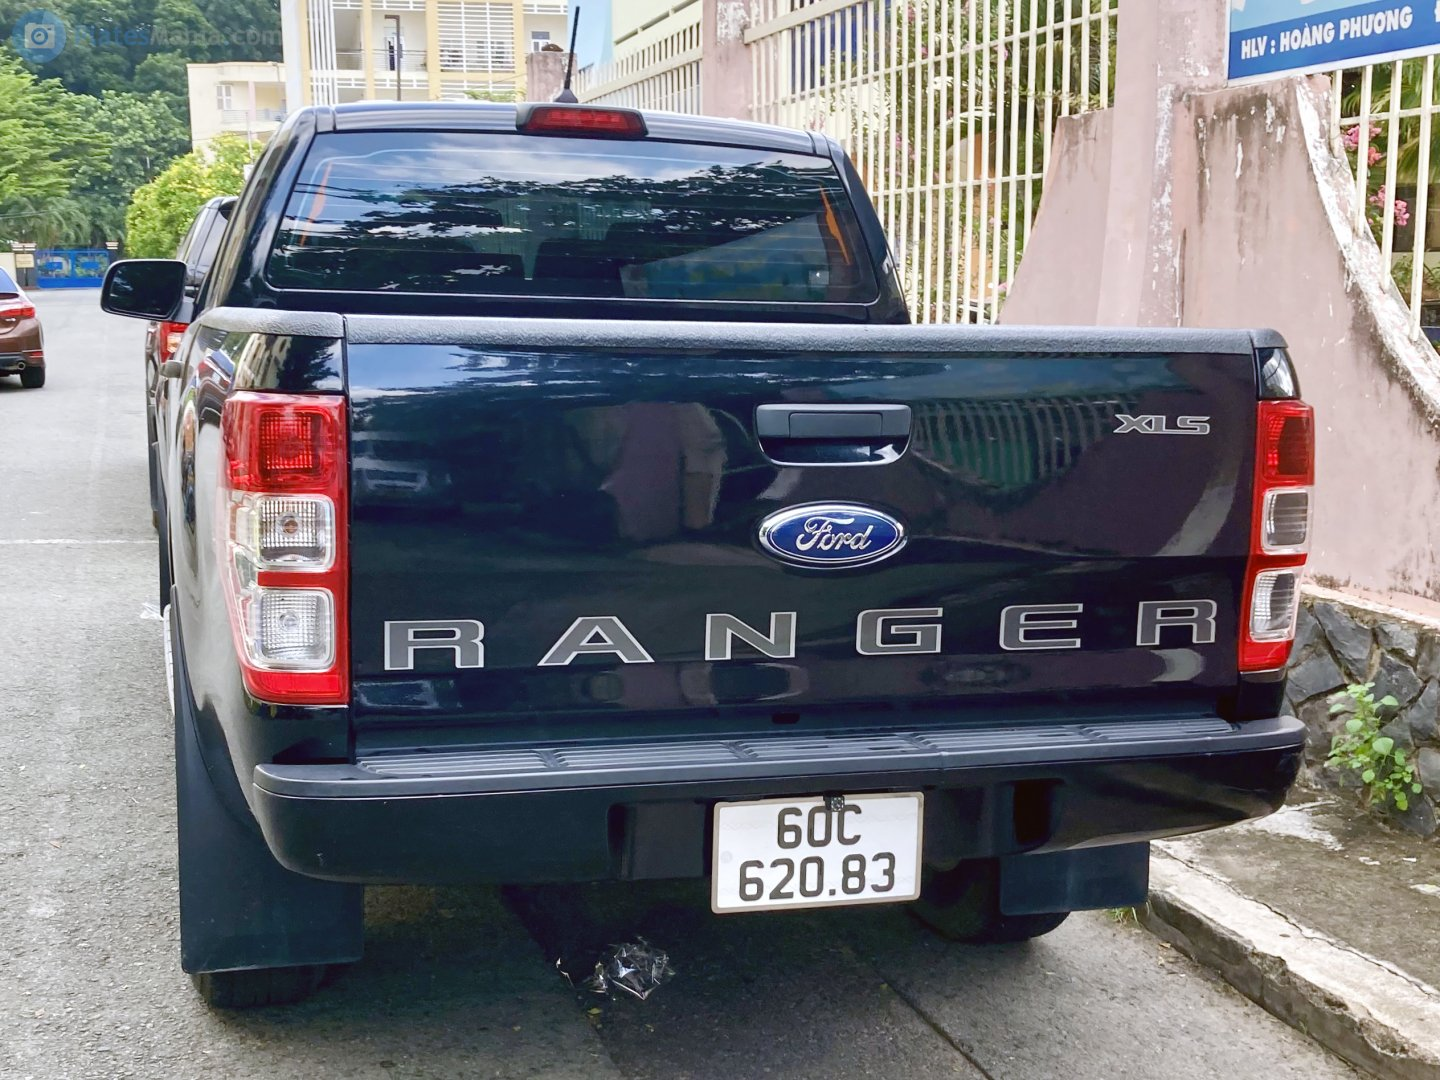bien_so: (713, 793, 921, 911)
